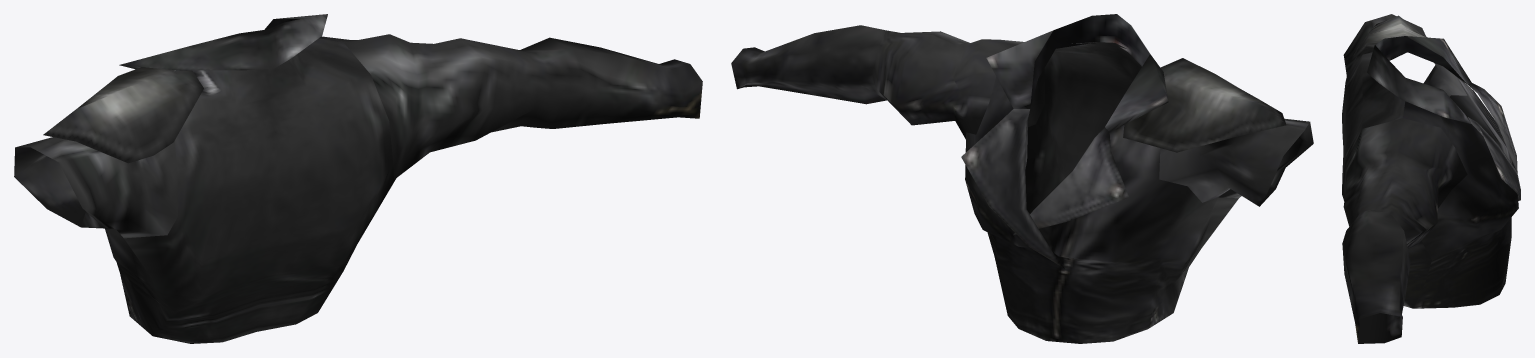
The model's file is Armor_male_leatherJacket.obj.
3 views of the same model, side by side, from view 1: azimuth 30°, elevation 25°; view 2: azimuth 150°, elevation 25°; view 3: azimuth 270°, elevation 25° (orthographic). The views are drawn at different scales.
Parts seen in each view (by area): view 1: Jacket, Object01; view 2: Jacket, Object01; view 3: Jacket, Object01.
Boxes of the visible parts, left/top/right/bottom form: Jacket: left=14, top=19, right=702, bottom=343; Object01: left=43, top=14, right=327, bottom=163; Jacket: left=731, top=14, right=1313, bottom=343; Object01: left=961, top=30, right=1286, bottom=268; Jacket: left=1342, top=14, right=1518, bottom=343; Object01: left=1351, top=15, right=1520, bottom=200.
Bounding box in the file's own units: 62.18 × 28.46 × 19.22.
2 materials, 2 textured.
